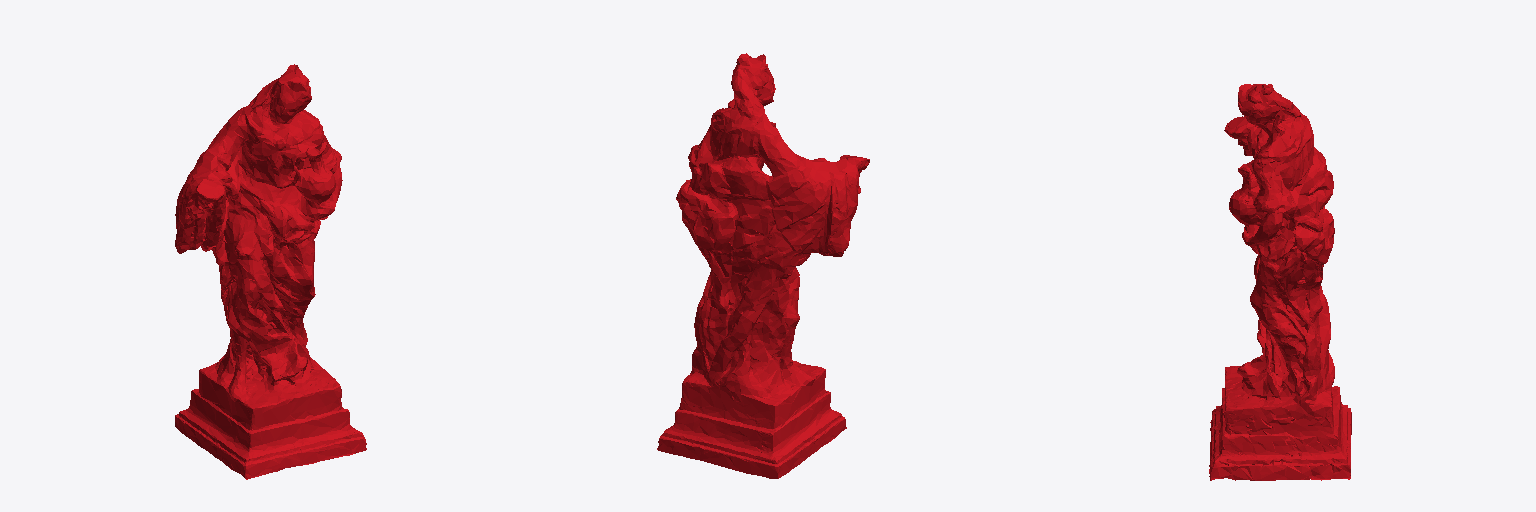
File: stridmost.obj
3 renders of one model, left to right at view 1: azimuth 30°, elevation 25°; view 2: azimuth 150°, elevation 25°; view 3: azimuth 270°, elevation 25°, orthographic.
Parts seen in each view (by area): view 1: model; view 2: model; view 3: model.
Part boxes in pixels (x1,y1,x2,y2): model: (175, 64, 366, 479); model: (657, 53, 869, 478); model: (1209, 84, 1351, 480).
Bounding box in the file's own units: 1.18 × 2.62 × 0.9014.